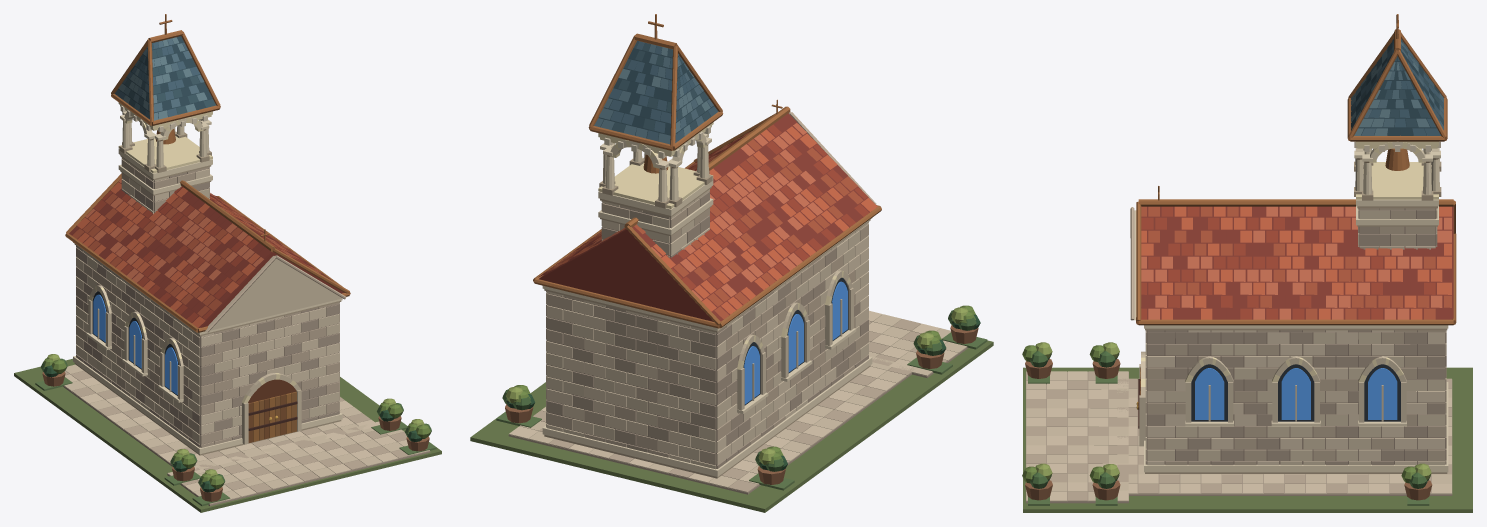
The model's file is chapel-nivel-2.glb.
The picture shows the model from 3 angles, left to right: view 1: azimuth 30°, elevation 25°; view 2: azimuth 150°, elevation 25°; view 3: azimuth 270°, elevation 25°; orthographic projection. The views are drawn at different scales.
Parts seen in each view (by area): view 1: Capela 02 #d3c3a9, Capela 02 #c1af99, Capela 02 #dac9af, Capela 02 #ae9d8b, Capela 02 #853e33, Capela 02 #6c7d4e, Capela 02 #e6d7ba, Capela 02 #a76e42, Capela 02 #bf6243, Capela 02 #c06b4f, Capela 02 #9b4735, Capela 02 #a8563c (+17 smaller); view 2: Capela 02 #d3c3a9, Capela 02 #853e33, Capela 02 #dac9af, Capela 02 #c1af99, Capela 02 #ae9d8b, Capela 02 #6c7d4e, Capela 02 #e6d7ba, Capela 02 #a76e42, Capela 02 #bf6243, Capela 02 #c06b4f, Capela 02 #a8563c, Capela 02 #9b4735 (+14 smaller); view 3: Capela 02 #d3c3a9, Capela 02 #dac9af, Capela 02 #c1af99, Capela 02 #853e33, Capela 02 #ae9d8b, Capela 02 #6c7d4e, Capela 02 #a76e42, Capela 02 #e6d7ba, Capela 02 #bf6243, Capela 02 #c06b4f, Capela 02 #9b4735, Capela 02 #87776b (+15 smaller).
Part boxes in pixels (x1=…): Capela 02 #d3c3a9: x1=64, y1=157, x2=429, y2=500; Capela 02 #c1af99: x1=64, y1=159, x2=414, y2=504; Capela 02 #dac9af: x1=65, y1=169, x2=407, y2=496; Capela 02 #ae9d8b: x1=63, y1=172, x2=430, y2=506; Capela 02 #853e33: x1=69, y1=182, x2=344, y2=327; Capela 02 #6c7d4e: x1=14, y1=358, x2=441, y2=512; Capela 02 #e6d7ba: x1=73, y1=111, x2=342, y2=454; Capela 02 #a76e42: x1=65, y1=14, x2=350, y2=332; Capela 02 #bf6243: x1=77, y1=182, x2=321, y2=327; Capela 02 #c06b4f: x1=85, y1=178, x2=320, y2=289; Capela 02 #9b4735: x1=93, y1=186, x2=324, y2=322; Capela 02 #a8563c: x1=72, y1=193, x2=316, y2=316; Capela 02 #d3c3a9: x1=520, y1=189, x2=967, y2=487; Capela 02 #853e33: x1=538, y1=113, x2=874, y2=321; Capela 02 #dac9af: x1=509, y1=219, x2=958, y2=484; Capela 02 #c1af99: x1=533, y1=112, x2=947, y2=492; Capela 02 #ae9d8b: x1=508, y1=191, x2=968, y2=494; Capela 02 #6c7d4e: x1=470, y1=340, x2=993, y2=512; Capela 02 #e6d7ba: x1=542, y1=132, x2=872, y2=476; Capela 02 #a76e42: x1=533, y1=14, x2=881, y2=328; Capela 02 #bf6243: x1=553, y1=126, x2=877, y2=314; Capela 02 #c06b4f: x1=552, y1=123, x2=822, y2=300; Capela 02 #a8563c: x1=546, y1=131, x2=863, y2=319; Capela 02 #9b4735: x1=566, y1=124, x2=868, y2=289; Capela 02 #d3c3a9: x1=1026, y1=208, x2=1451, y2=501; Capela 02 #dac9af: x1=1026, y1=209, x2=1451, y2=501; Capela 02 #c1af99: x1=1026, y1=207, x2=1451, y2=501; Capela 02 #853e33: x1=1141, y1=206, x2=1453, y2=319; Capela 02 #ae9d8b: x1=1026, y1=210, x2=1452, y2=503; Capela 02 #6c7d4e: x1=1023, y1=367, x2=1472, y2=512; Capela 02 #a76e42: x1=1136, y1=14, x2=1456, y2=325; Capela 02 #e6d7ba: x1=1144, y1=141, x2=1448, y2=472; Capela 02 #bf6243: x1=1141, y1=206, x2=1451, y2=319; Capela 02 #c06b4f: x1=1141, y1=206, x2=1451, y2=319; Capela 02 #9b4735: x1=1141, y1=206, x2=1435, y2=319; Capela 02 #87776b: x1=1147, y1=208, x2=1445, y2=464.
Bounding box in the file's own units: 8.75 × 12.34 × 11.78.
